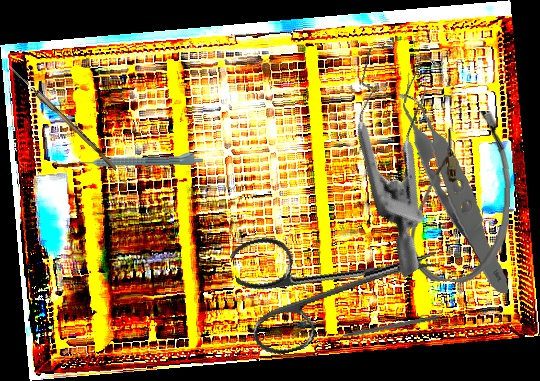Cannula: (408, 107, 515, 285)
Handpiece: (76, 150, 204, 168)
Hook Surgical: (323, 313, 440, 343)
Iris Scissors: (227, 198, 452, 361)
Speculum: (285, 21, 529, 278)
Surgical Spoon: (4, 62, 120, 171)
Tissue Forceps: (384, 71, 532, 294)
